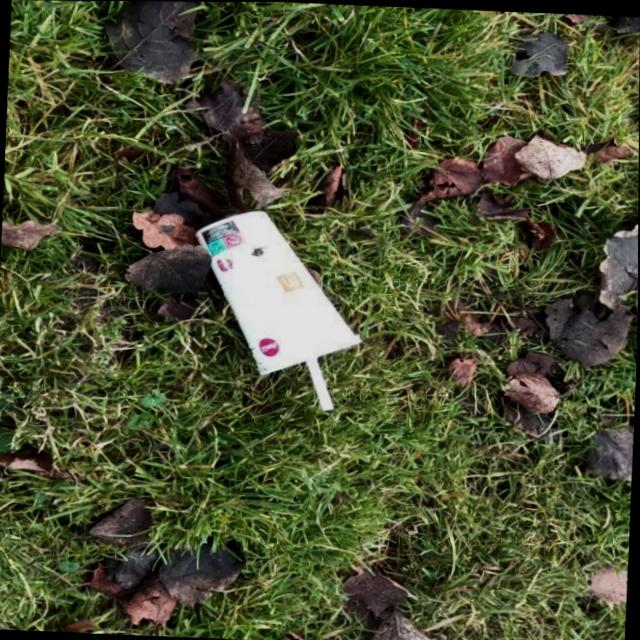Cup: (186, 204, 373, 381)
